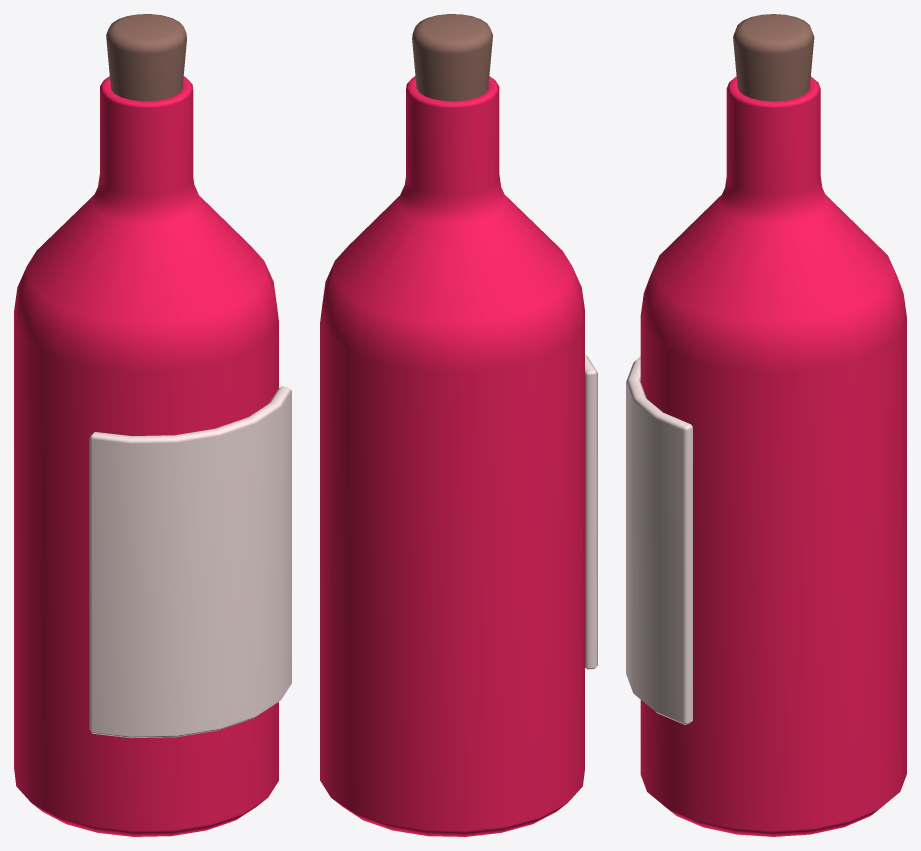
Rendered from Store_20_Bottle_of_Wine_2.glb.
The picture shows the model from 3 angles, left to right: view 1: azimuth 30°, elevation 25°; view 2: azimuth 150°, elevation 25°; view 3: azimuth 270°, elevation 25°; orthographic projection.
Parts seen in each view (by area): view 1: Store_20_Bottle_of_Wine_2; view 2: Store_20_Bottle_of_Wine_2; view 3: Store_20_Bottle_of_Wine_2.
Boxes of the visible parts, x1=… form: Store_20_Bottle_of_Wine_2: x1=14, y1=14, x2=291, y2=836; Store_20_Bottle_of_Wine_2: x1=320, y1=14, x2=597, y2=836; Store_20_Bottle_of_Wine_2: x1=626, y1=14, x2=906, y2=836.
Size of the model in its own units: 0.154 by 0.4845 by 0.1624.
Materials: 1 (1 with a texture image).
